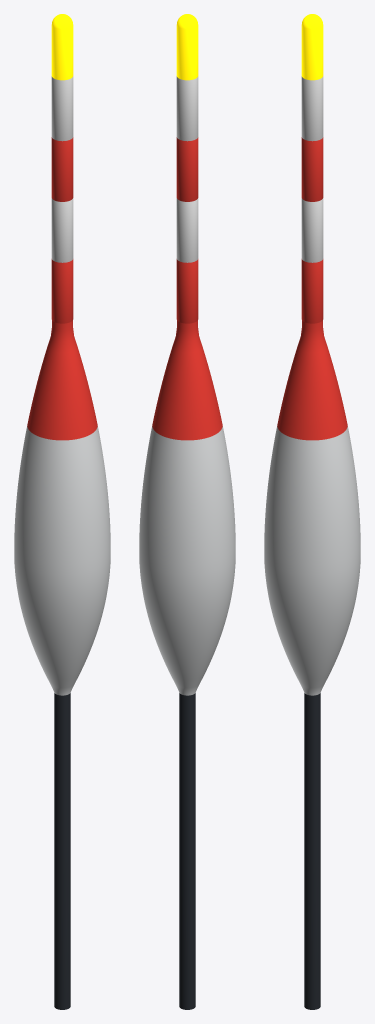
The model's file is strela.glb.
3 renders of one model, left to right at view 1: azimuth 30°, elevation 25°; view 2: azimuth 150°, elevation 25°; view 3: azimuth 330°, elevation 25°, orthographic.
Visible parts, largest first — view 1: strela; view 2: strela; view 3: strela.
Part boxes in pixels (x1=…): strela: x1=14, y1=14, x2=110, y2=1009; strela: x1=139, y1=14, x2=235, y2=1009; strela: x1=264, y1=14, x2=360, y2=1009.
Bounding box in the file's own units: 0.0144 × 0.163 × 0.0144.
